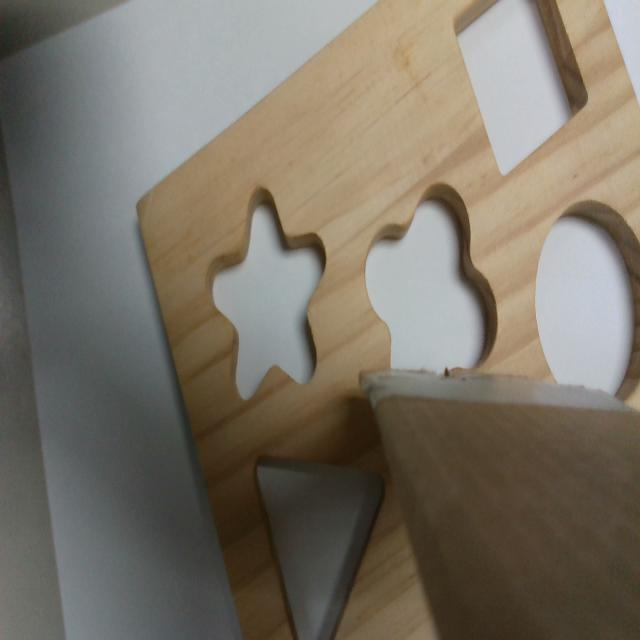circle: (537, 199, 640, 400)
flower: (364, 181, 498, 381)
square: (455, 4, 588, 177)
star: (206, 183, 328, 392)
triangle: (253, 455, 387, 638)
